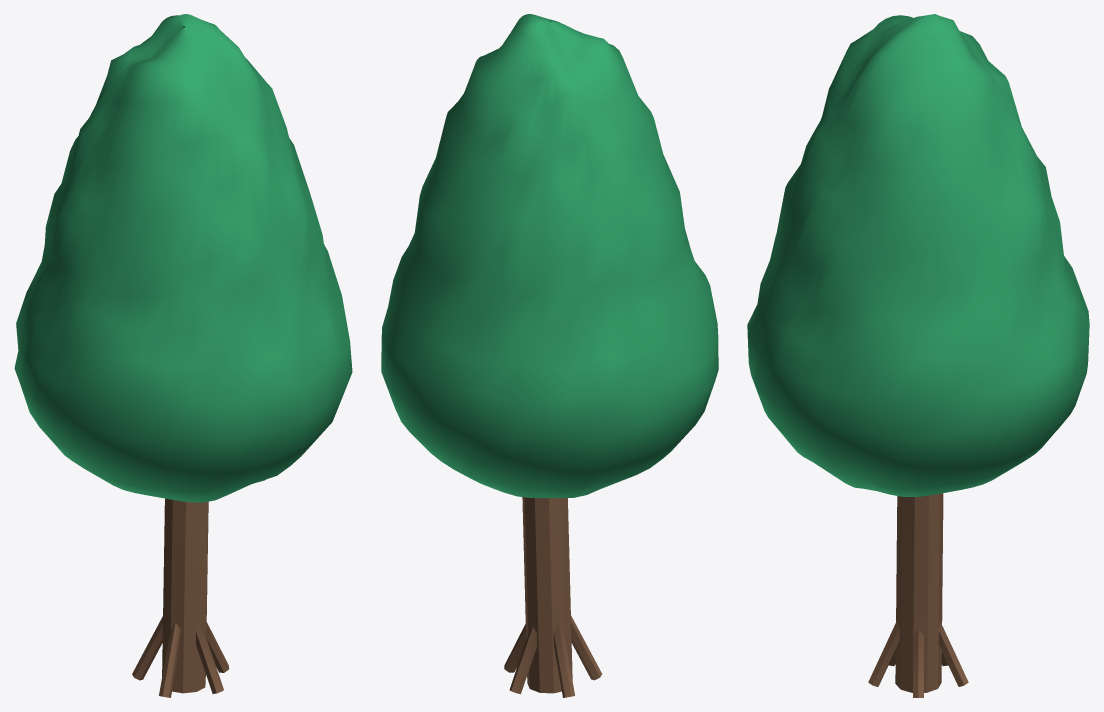
Rendered from tree.glb.
3 renders of one model, left to right at view 1: azimuth 30°, elevation 25°; view 2: azimuth 150°, elevation 25°; view 3: azimuth 270°, elevation 25°, orthographic.
Parts seen in each view (by area): view 1: rounded canopy, trunk; view 2: rounded canopy, trunk; view 3: rounded canopy, trunk.
Part boxes in pixels (<box>): rounded canopy: <box>14,14,352,502</box>; trunk: <box>132,498,229,697</box>; rounded canopy: <box>381,14,718,497</box>; trunk: <box>504,497,601,697</box>; rounded canopy: <box>747,14,1089,496</box>; trunk: <box>868,493,968,697</box>.
Bounding box in the file's own units: 1.07 × 2.31 × 1.07.
